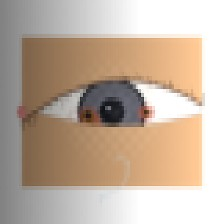foreign_body_visible: (64, 96, 112, 135)
